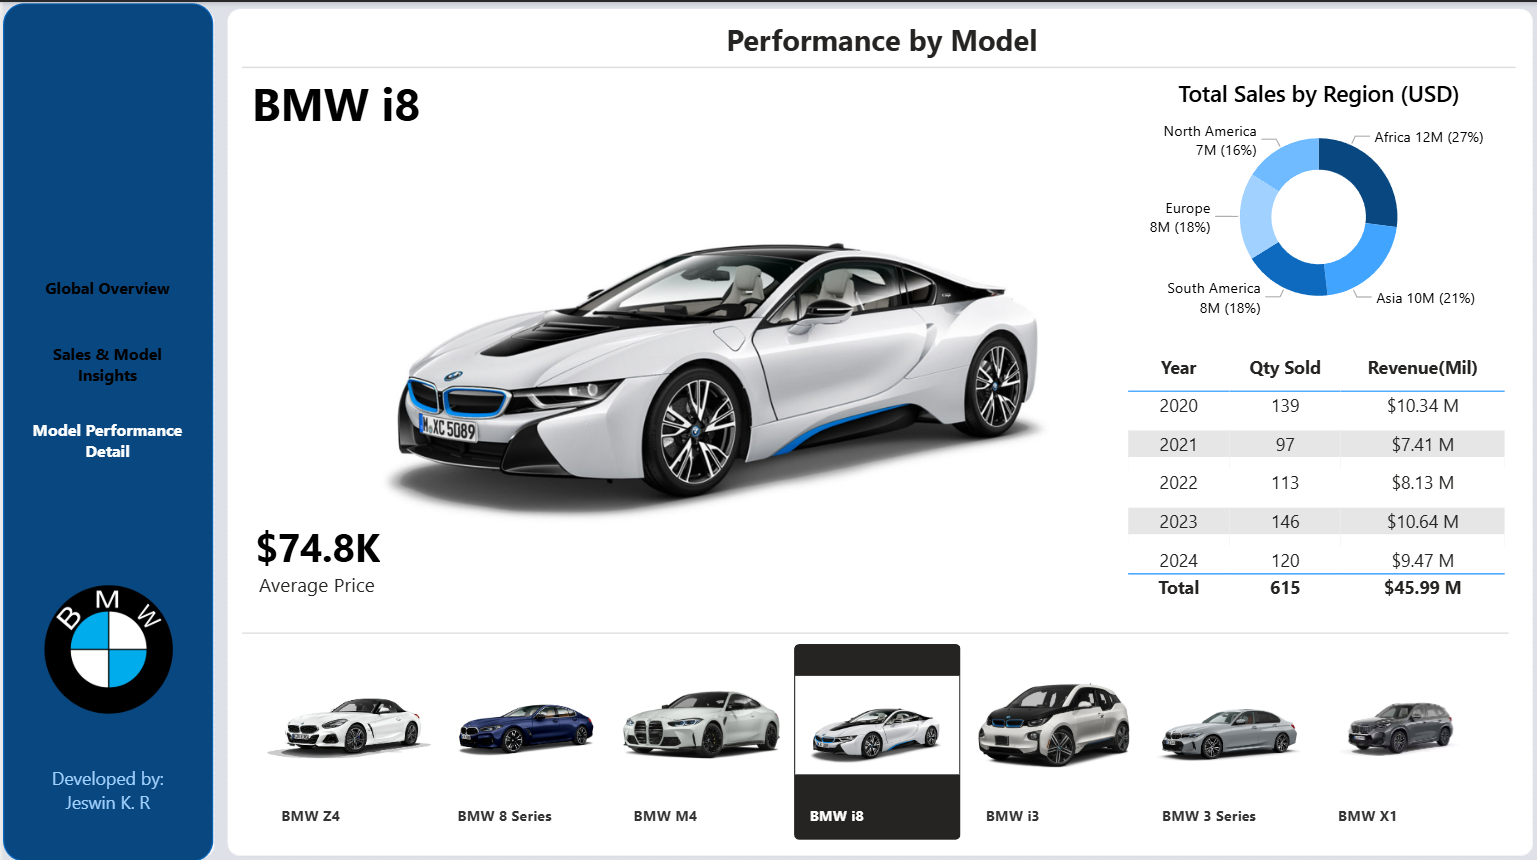

What the dashboard file says about the page in this screenshot:
{"tool":"powerbi","page":{"name":"Model Performance Detail","canvas":[1280,720],"ordinal":2},"visuals":[{"type":"advancedSlicerVisual","fields":{"Values":["dim_model.Car Images.img"],"Label":["Min(dim_model.Model)"]},"box":[193,527.9,1070.9,172.1],"z":0},{"type":"advancedSlicerVisual","fields":{"Values":["dim_model.Car Images.img"]},"box":[209.3,57,775.6,453.5],"z":1000},{"type":"shape","box":[206.4,52.2,426.5,63.5],"z":2000},{"type":"shape","box":[209.3,419.8,426.7,62.8],"z":3000},{"type":"textbox","box":[207,466.3,120.9,39.5],"z":4000},{"type":"tableEx","fields":{"Values":["fact_Sales.Year","fact_Sales.Qty Sold","fact_Sales.Revenue (Millions)"]},"box":[926.7,291.5,338,214.4],"z":5000},{"type":"shape","box":[0,1.2,174.4,711.6],"z":6000},{"type":"image","box":[0,479.1,174.4,116.3],"z":7000},{"type":"pageNavigator","box":[16.3,210.5,140.7,179.1],"z":8000},{"type":"textbox","box":[438.9,10.2,578.5,55.6],"z":9000},{"type":"textbox","box":[8.1,627.9,157,59.3],"z":10000},{"type":"donutChart","title":"Total Sales by Region (USD)","fields":{"Category":["dim_country.Region"],"Y":["fact_Sales.Revenue"]},"box":[926.7,60.1,328.9,223.4],"z":11000}]}

Visuals, with their boxes in screenshot pixels (x1, y1, x2, y2), scaled from the page's 1280x720 canvas onto the 1537x860 screenshot:
advancedSlicerVisual - dim_model.Car Images.img x Min(dim_model.Model): x1=232 y1=631 x2=1518 y2=836
advancedSlicerVisual - dim_model.Car Images.img: x1=251 y1=68 x2=1183 y2=610
shape: x1=248 y1=62 x2=760 y2=138
shape: x1=251 y1=501 x2=764 y2=576
textbox: x1=249 y1=557 x2=394 y2=604
tableEx - fact_Sales.Year x fact_Sales.Qty Sold: x1=1113 y1=348 x2=1519 y2=604
shape: x1=0 y1=1 x2=209 y2=851
image: x1=0 y1=572 x2=209 y2=711
pageNavigator: x1=20 y1=251 x2=189 y2=465
textbox: x1=527 y1=12 x2=1222 y2=79
textbox: x1=10 y1=750 x2=198 y2=821
"Total Sales by Region (USD)" donutChart: x1=1113 y1=72 x2=1508 y2=339
